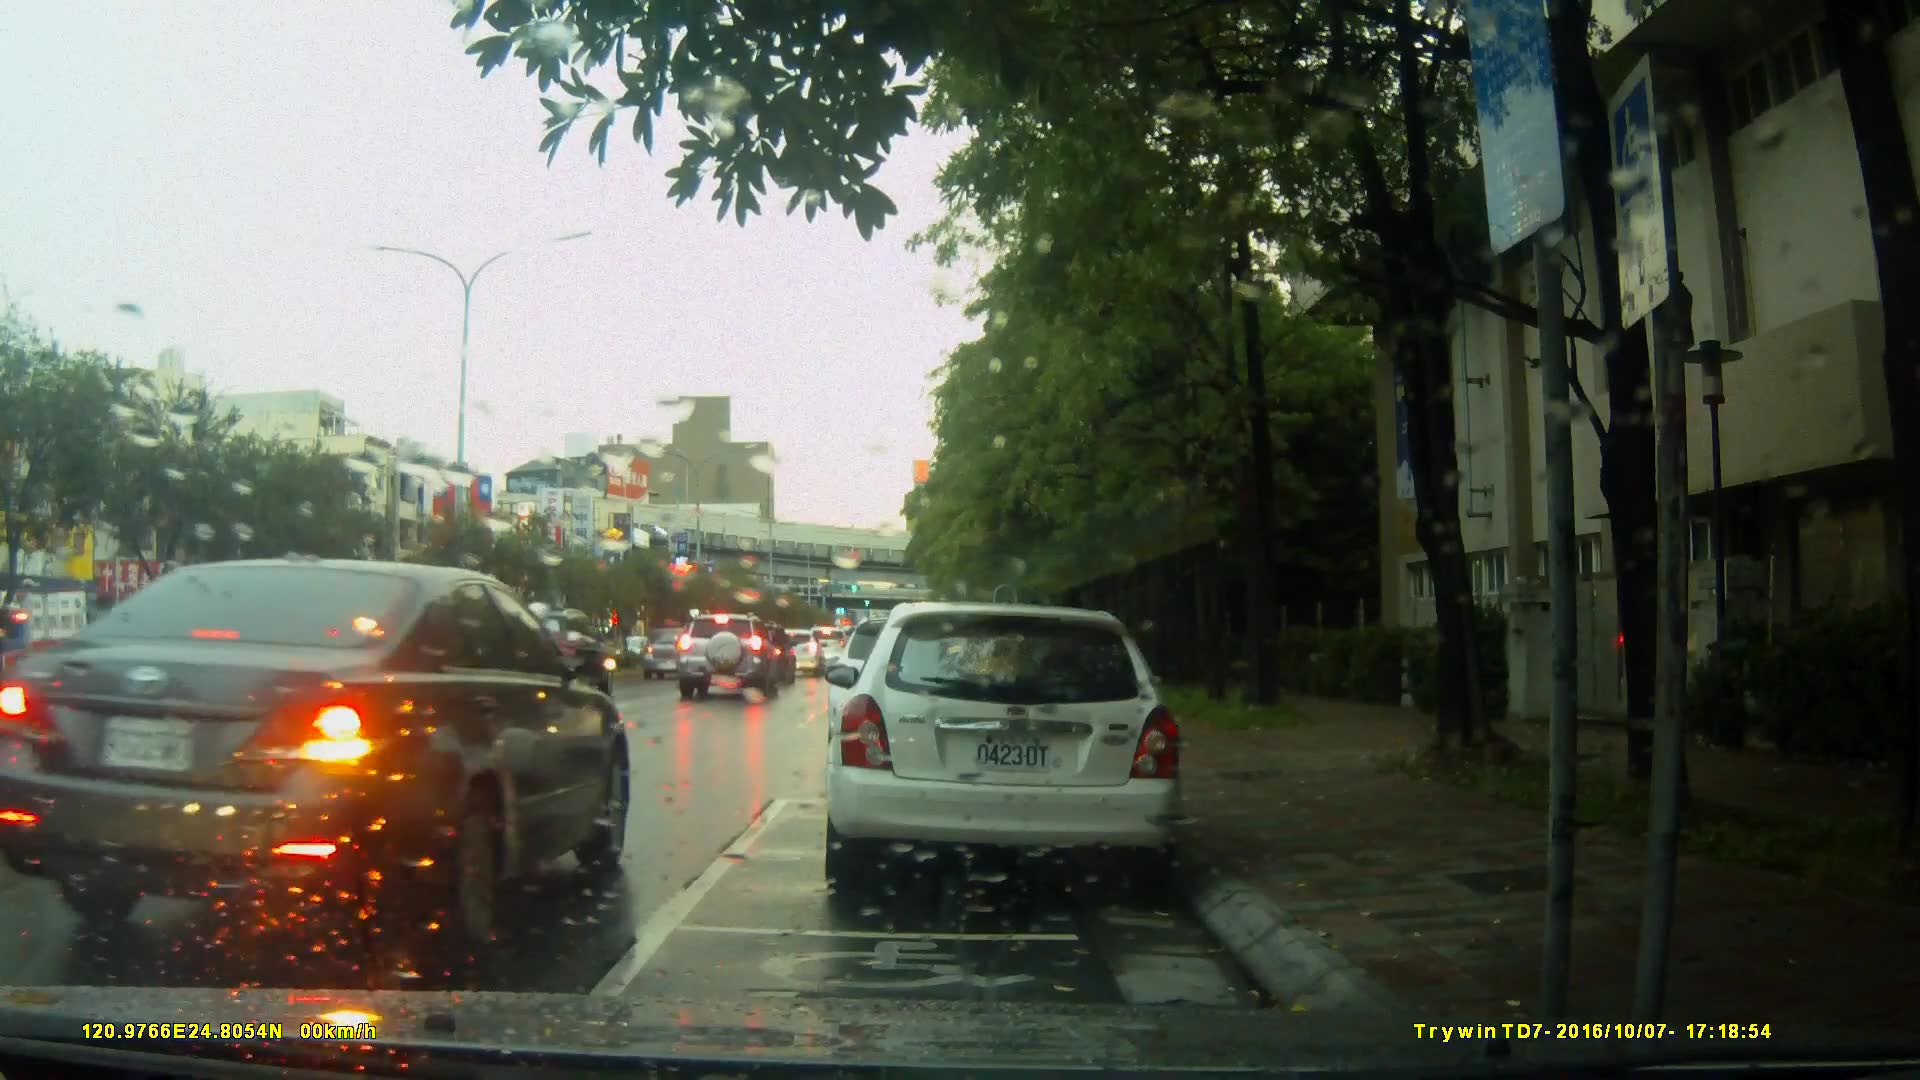vehicle: (9, 555, 637, 953), (820, 603, 1188, 898), (678, 613, 778, 703)
